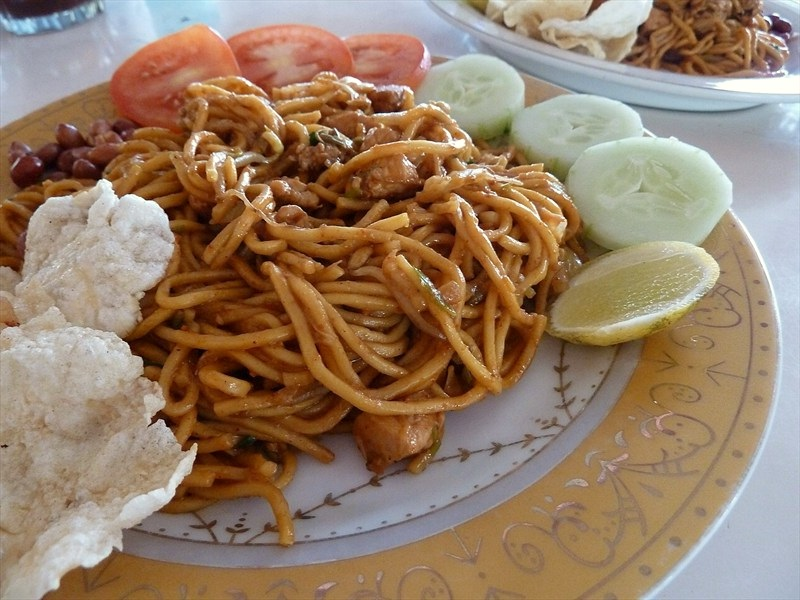Mie Goreng: (122, 89, 583, 466)
